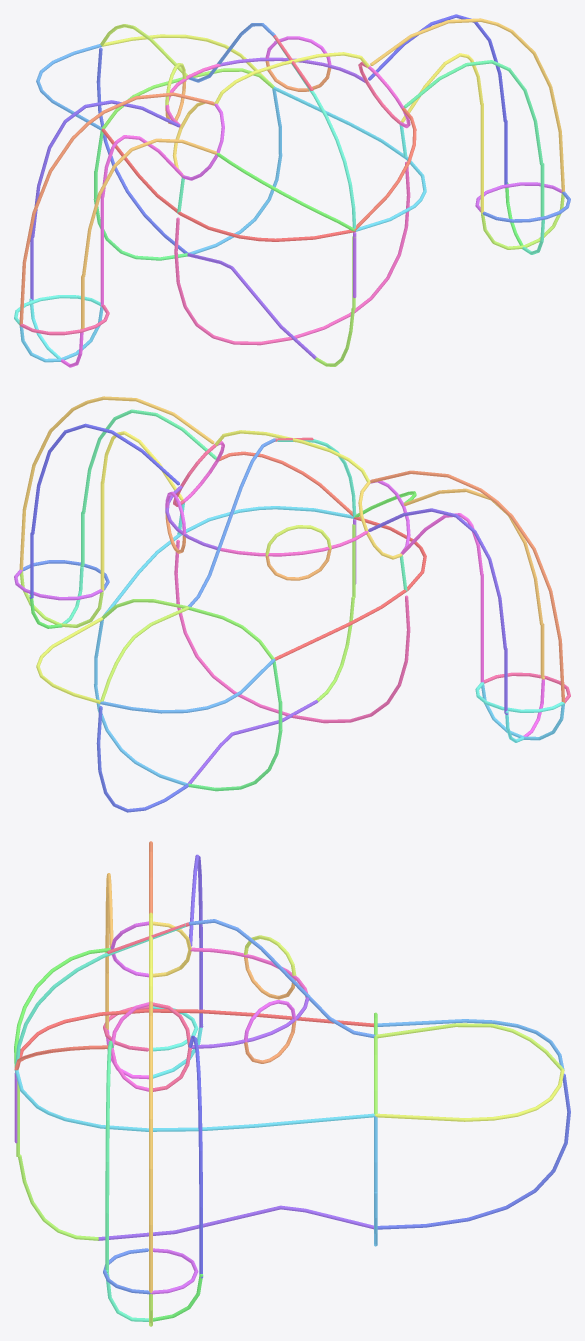
Rendered from scaffolds3d_dog.gltf.
3 views of the same model, one above another, from view 1: azimuth 30°, elevation 25°; view 2: azimuth 150°, elevation 25°; view 3: azimuth 270°, elevation 25° (orthographic). The views are drawn at different scales.
Bounding box in the file's own units: 0.7214 × 0.3768 × 0.5917.
